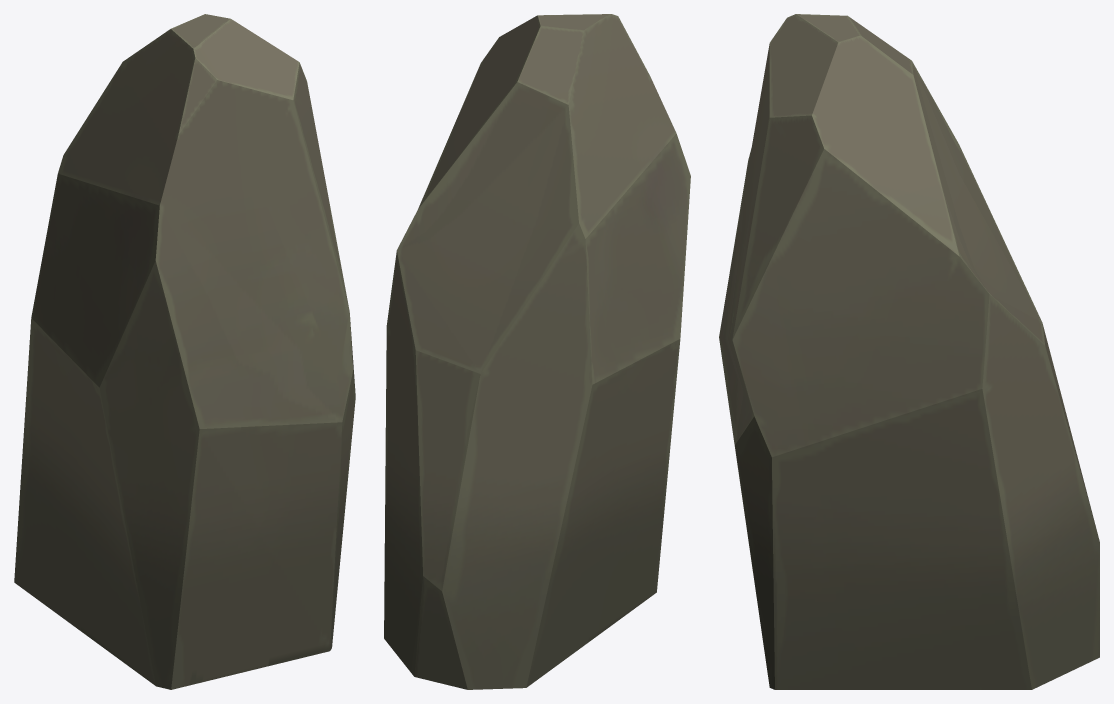
The model's file is Rock1.fbx.
3 views of the same model, side by side, from view 1: azimuth 30°, elevation 25°; view 2: azimuth 150°, elevation 25°; view 3: azimuth 270°, elevation 25° (orthographic). The views are drawn at different scales.
Visible parts, largest first — view 1: Cube; view 2: Cube; view 3: Cube.
Boxes of the visible parts, bbox=[...] form: Cube: bbox=[14, 14, 355, 689]; Cube: bbox=[384, 14, 690, 689]; Cube: bbox=[719, 14, 1099, 689].
Size of the model in its own units: 274 by 695 by 391.
Materials: 1 (1 with a texture image).
